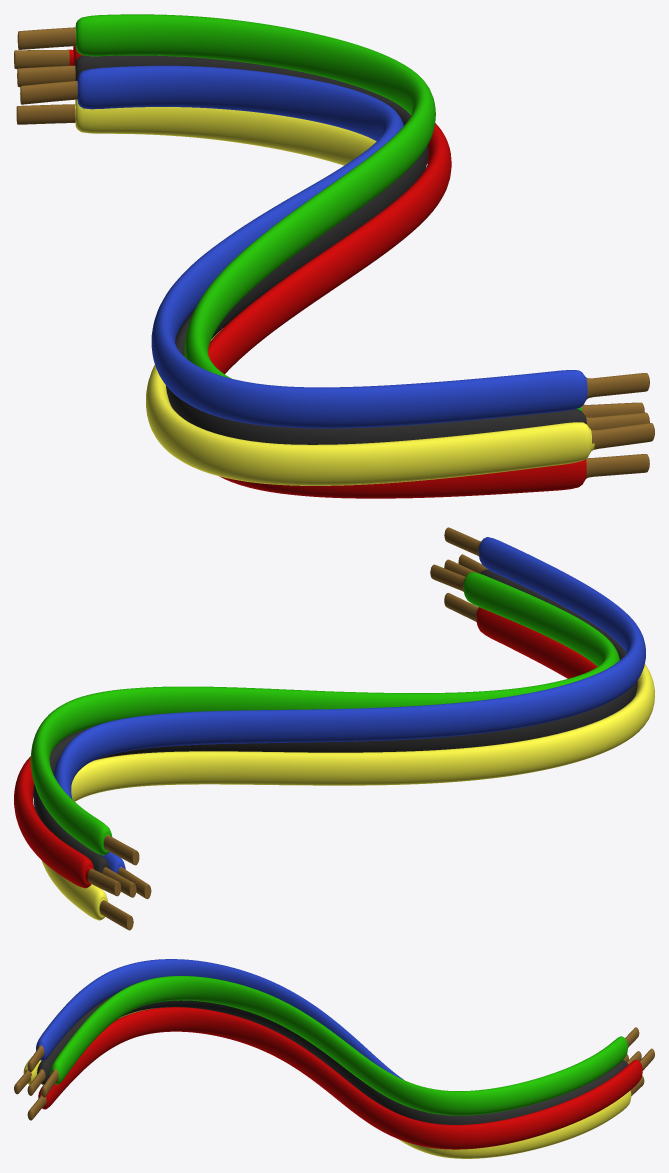
File: Cable1.fbx
3 renders of one model, top to bottom at view 1: azimuth 30°, elevation 25°; view 2: azimuth 150°, elevation 25°; view 3: azimuth 270°, elevation 25°, orthographic. The views are drawn at different scales.
Visible parts, largest first — view 1: pCylinder6; view 2: pCylinder6; view 3: pCylinder6.
Boxes of the visible parts, left/top/right/bottom form: pCylinder6: left=14, top=14, right=654, bottom=498; pCylinder6: left=14, top=527, right=654, bottom=930; pCylinder6: left=14, top=959, right=654, bottom=1158.
Bounding box in the file's own units: 0.0513 × 0.0117 × 0.0947.
